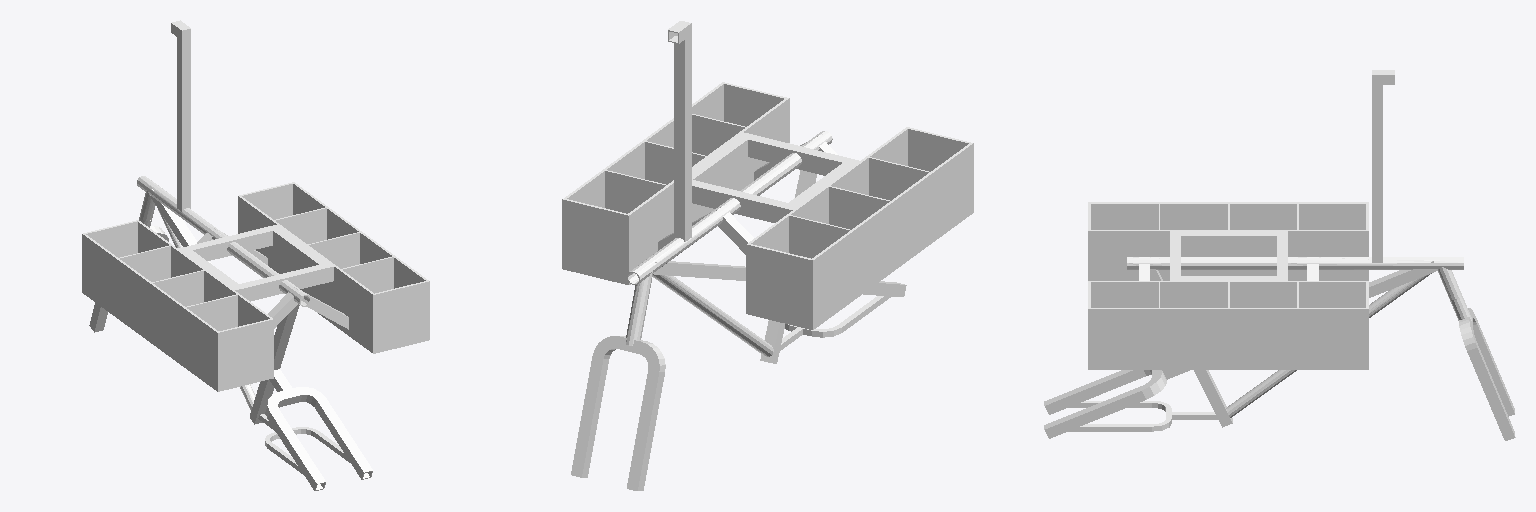
robot.urdf — assemb square:
<?xml version="1.0" encoding="utf-8"?>
<!-- This URDF was automatically created by SolidWorks to URDF Exporter! Originally created by [author] ([email redacted]) 
     Commit Version: 1.6.0-1-g15f4949  Build Version: 1.6.7594.29634
     For more information, please see http://wiki.ros.org/sw_urdf_exporter -->
<robot
  name="assemb square">
  <link
    name="base_link">
    <inertial>
      <origin
        xyz="-5.04625716096626E-08 -0.0884661771110268 -0.0544389934143933"
        rpy="0 0 0" />
      <mass
        value="5.68454889993894" />
      <inertia
        ixx="0.1662135522354"
        ixy="5.75953091259257E-08"
        ixz="-9.05149611417831E-09"
        iyy="0.154448497087217"
        iyz="-0.0164038033052864"
        izz="0.261683877243785" />
    </inertial>
    <visual>
      <origin
        xyz="0 0 0"
        rpy="0 0 0" />
      <geometry>
        <mesh
          filename="package://assemb square/meshes/base_link.STL" />
      </geometry>
      <material
        name="">
        <color
          rgba="1 1 1 1" />
      </material>
    </visual>
    <collision>
      <origin
        xyz="0 0 0"
        rpy="0 0 0" />
      <geometry>
        <mesh
          filename="package://assemb square/meshes/base_link.STL" />
      </geometry>
    </collision>
  </link>
  <link
    name="fork">
    <inertial>
      <origin
        xyz="0.0512526995549616 -0.134161945679297 -2.94252469612566E-16"
        rpy="0 0 0" />
      <mass
        value="0.143599499950691" />
      <inertia
        ixx="0.00100359152238864"
        ixy="0.000268430778082277"
        ixz="1.24513843246382E-19"
        iyy="0.000403478269612014"
        iyz="1.25833223142151E-18"
        izz="0.000821050320116566" />
    </inertial>
    <visual>
      <origin
        xyz="0 0 0"
        rpy="0 0 0" />
      <geometry>
        <mesh
          filename="package://assemb square/meshes/fork.STL" />
      </geometry>
      <material
        name="">
        <color
          rgba="1 1 1 1" />
      </material>
    </visual>
    <collision>
      <origin
        xyz="0 0 0"
        rpy="0 0 0" />
      <geometry>
        <mesh
          filename="package://assemb square/meshes/fork.STL" />
      </geometry>
    </collision>
  </link>
  <joint
    name="fork_joint"
    type="continuous">
    <origin
      xyz="0 0.307428651839696 -0.0576800384919489"
      rpy="1.56853519909698 0 1.57671521120076" />
    <parent
      link="base_link" />
    <child
      link="fork" />
    <axis
      xyz="0.356867031977588 -0.934155191329314 0" />
  </joint>
</robot>

--- Facts derived from the render (not from the file) ---
The picture shows the robot from 3 angles, left to right: view 1: azimuth 30°, elevation 25°; view 2: azimuth 150°, elevation 25°; view 3: azimuth 270°, elevation 25°; orthographic projection.
Model assemb square with 2 links and 1 joints (1 continuous), rooted at base_link, posed all joints at 0.
Links seen in each view (by area): view 1: base_link, fork; view 2: base_link, fork; view 3: base_link, fork.
Boxes of the visible links, left/top/right/bottom form: base_link: left=82, top=20, right=429, bottom=490; fork: left=89, top=217, right=168, bottom=332; base_link: left=562, top=21, right=973, bottom=363; fork: left=571, top=312, right=665, bottom=490; base_link: left=1044, top=70, right=1463, bottom=438; fork: left=1450, top=296, right=1515, bottom=440.
Bounding box of the posed robot: 0.451 × 0.8392 × 0.6974 m (x, y, z).
2 mesh visuals loaded from 2 distinct referenced files (2 binary STL).